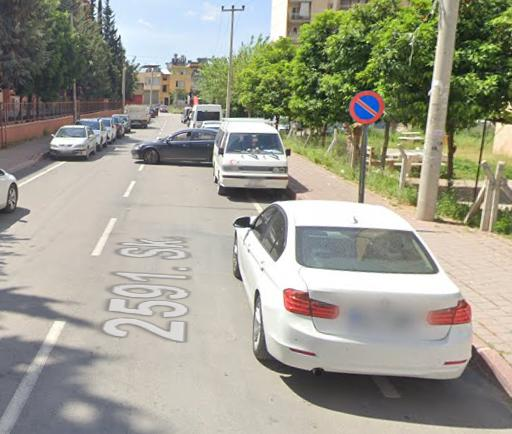stop: (348, 88, 385, 128)
